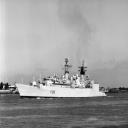Fragata: (16, 56, 110, 102)
